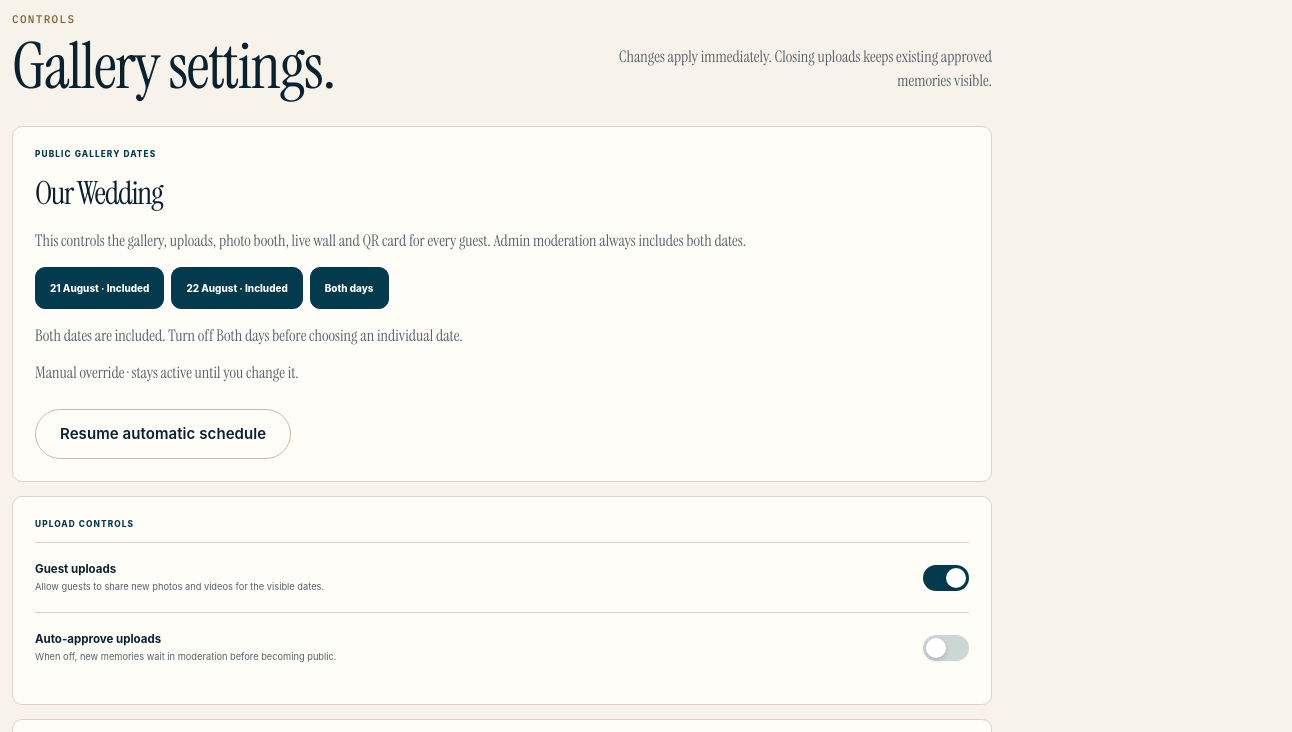
Scenario: gallery settings › includes and disables both individual dates until Both days is turned off, then restores the last single date
Check: the button "21 August · Included" is disabled, box x1=35 y1=267 x2=164 y2=309
Check: the button "22 August · Included" is disabled, box x1=171 y1=267 x2=303 y2=309
Click the button "Both days". click: x=349, y=288
box: x1=310 y1=267 x2=388 y2=309
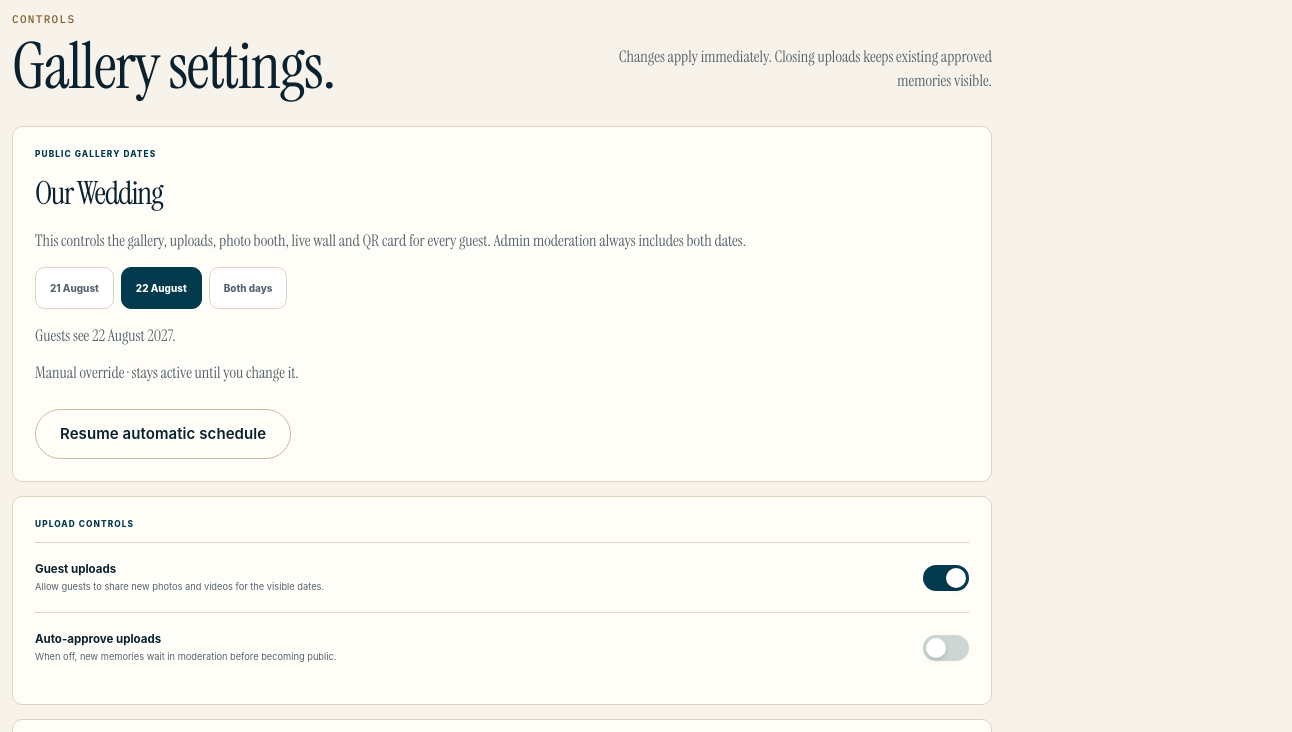
Check: the button "21 August" is enabled, box x1=35 y1=267 x2=114 y2=309
